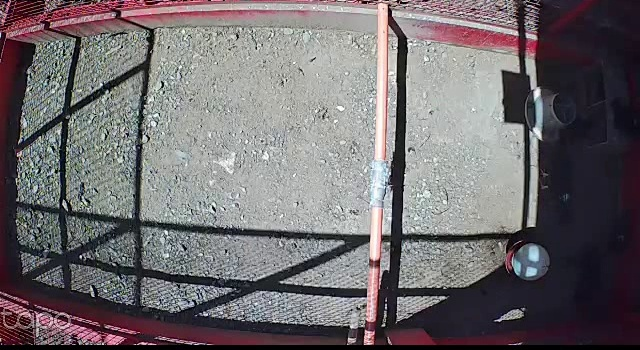Drinker: (506, 241, 551, 284)
Feeder: (523, 86, 580, 146)
